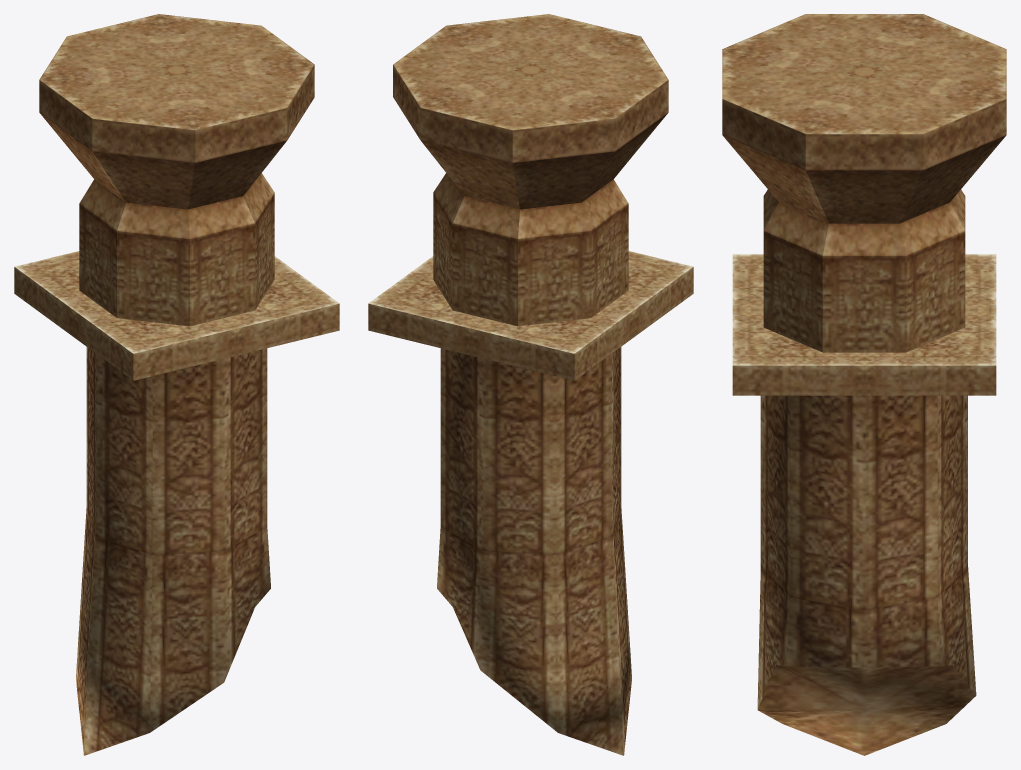
Rendered from general_obj_bigtoewr02.glb.
3 renders of one model, left to right at view 1: azimuth 30°, elevation 25°; view 2: azimuth 150°, elevation 25°; view 3: azimuth 270°, elevation 25°, orthographic. The views are drawn at different scales.
Parts seen in each view (by area): view 1: Sphere01; view 2: Sphere01; view 3: Sphere01.
Boxes of the visible parts, left/top/right/bottom form: Sphere01: left=14, top=14, right=339, bottom=755; Sphere01: left=368, top=14, right=693, bottom=755; Sphere01: left=722, top=14, right=1006, bottom=755.
Size of the model in its own units: 4.31 by 12.3 by 4.31.
Materials: 1 (1 with a texture image).
